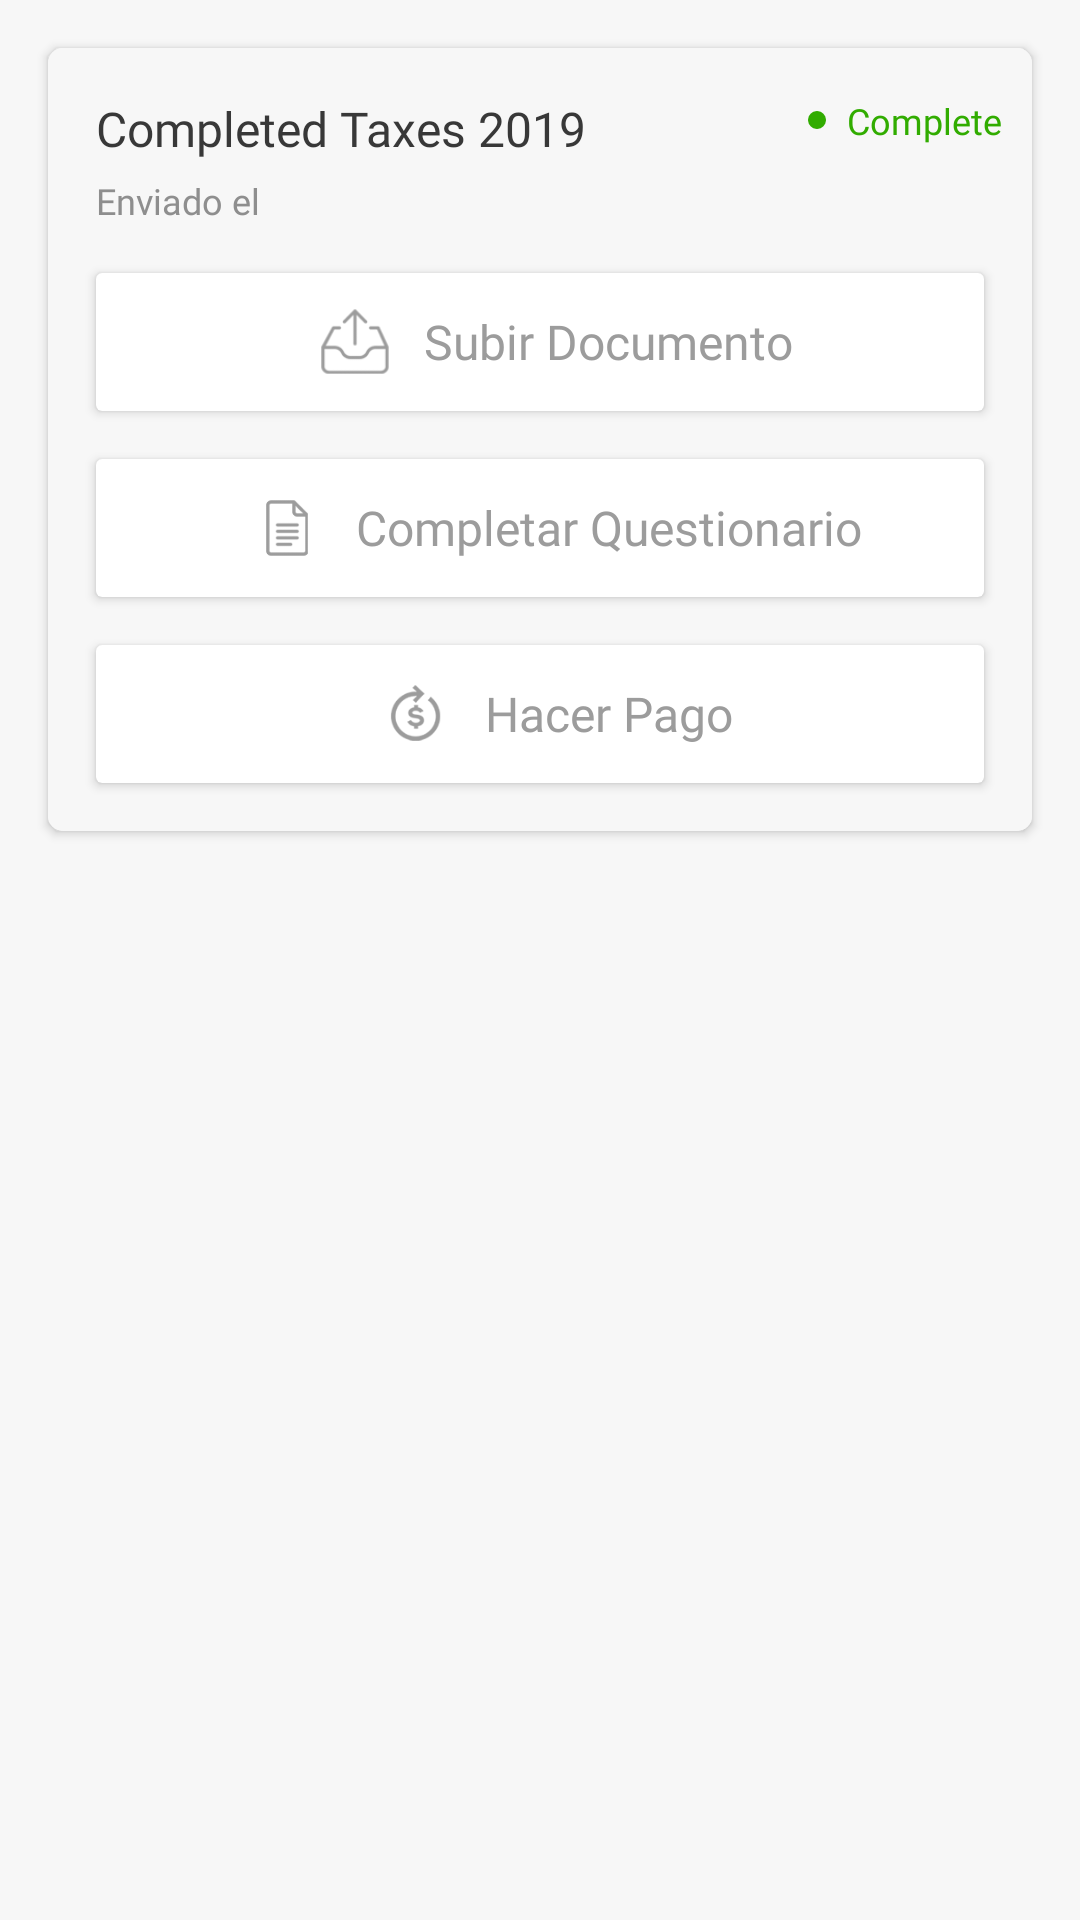

Named icons in this screenshot (1080px x 1920px) and their centers, point (x, y):
payment: point (415, 713)
upload: point (355, 341)
